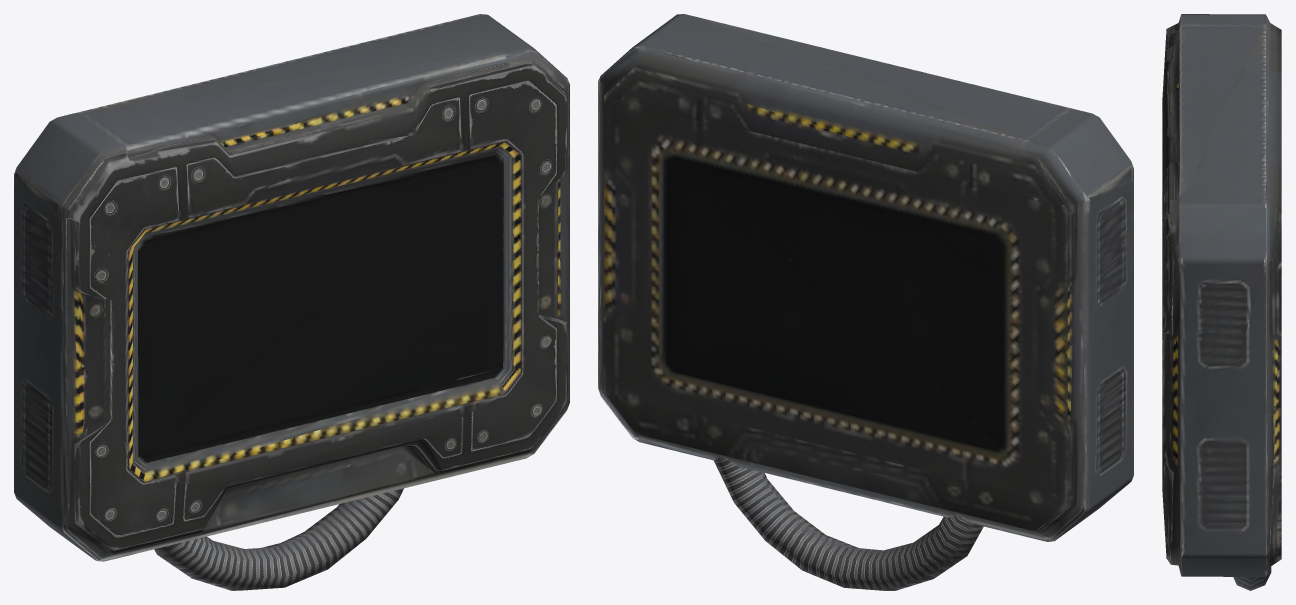
Rendered from wall_screen.glb.
The picture shows the model from 3 angles, left to right: view 1: azimuth 30°, elevation 25°; view 2: azimuth 150°, elevation 25°; view 3: azimuth 270°, elevation 25°; orthographic projection. The views are drawn at different scales.
Visible parts, largest first — view 1: wall_screen; view 2: wall_screen; view 3: wall_screen.
Part boxes in pixels (x1=…): wall_screen: x1=14, y1=14, x2=569, y2=590; wall_screen: x1=598, y1=14, x2=1133, y2=590; wall_screen: x1=1162, y1=14, x2=1281, y2=590.
Bounding box in the file's own units: 3 × 2.9 × 0.6694.
Materials: 1 (1 with a texture image).
